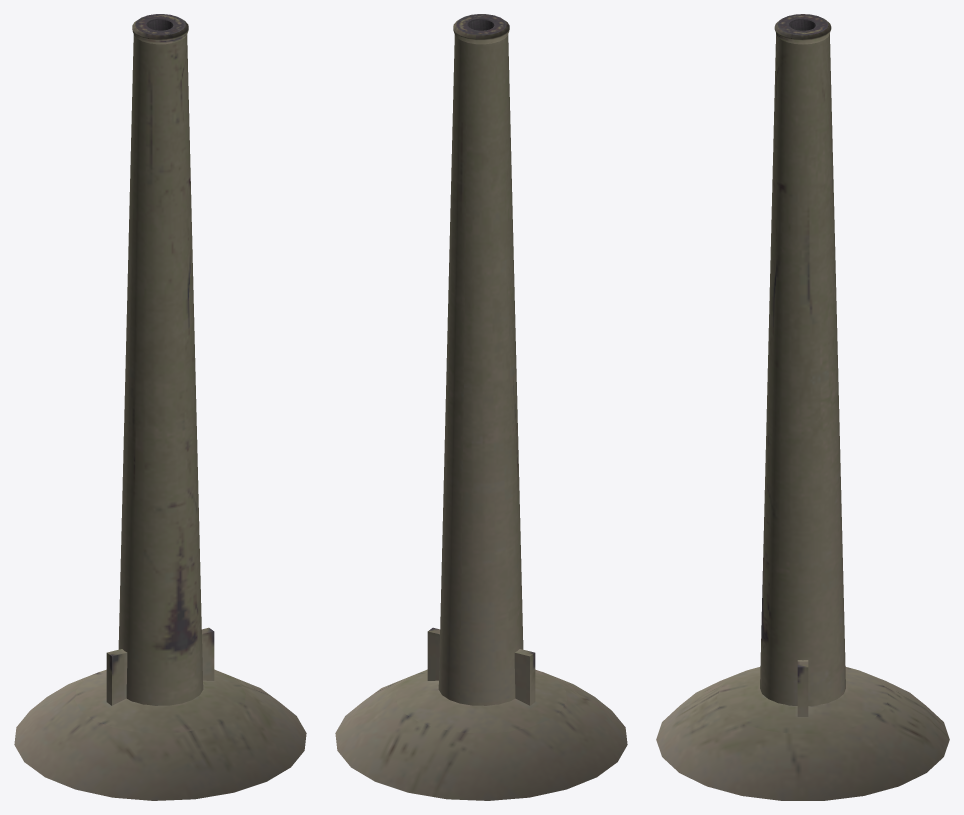
File: Gun_01.glb
3 views of the same model, side by side, from view 1: azimuth 30°, elevation 25°; view 2: azimuth 150°, elevation 25°; view 3: azimuth 270°, elevation 25° (orthographic).
Visible parts, largest first — view 1: set_0_group_0; view 2: set_0_group_0; view 3: set_0_group_0.
Part boxes in pixels (box(x1,y1,x2,y2)): set_0_group_0: box(14, 14, 306, 800); set_0_group_0: box(335, 14, 627, 800); set_0_group_0: box(656, 14, 949, 800).
Bounding box in the file's own units: 0.8566 × 2.32 × 0.8654.
1 material, 1 textured.
